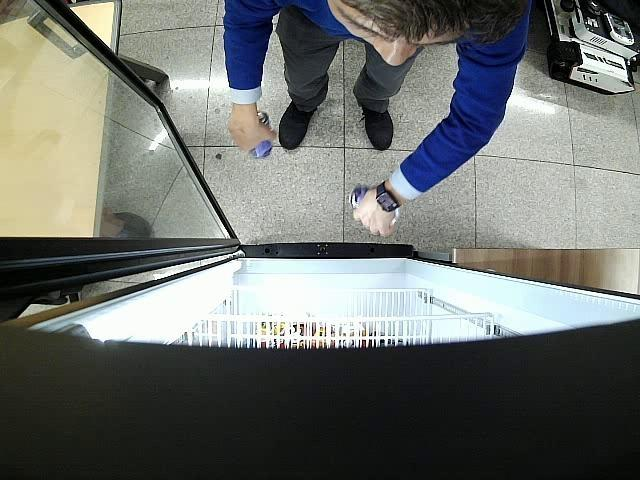14_welchsGrape: (348, 184, 398, 226), (250, 111, 272, 159)
